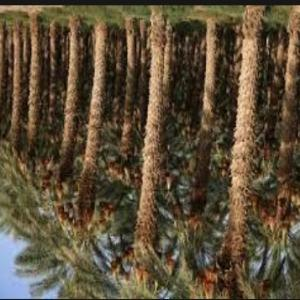palm tree: (0, 4, 299, 298)
